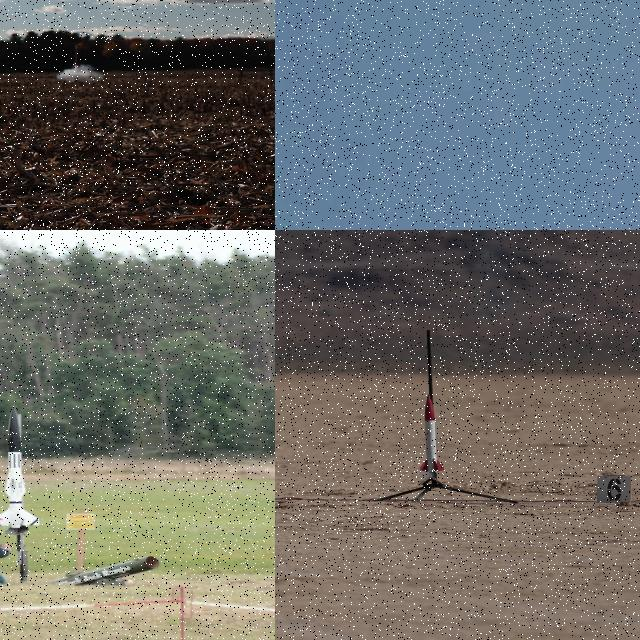Rocket: (0, 405, 41, 528), (418, 392, 444, 474), (73, 44, 80, 65)
